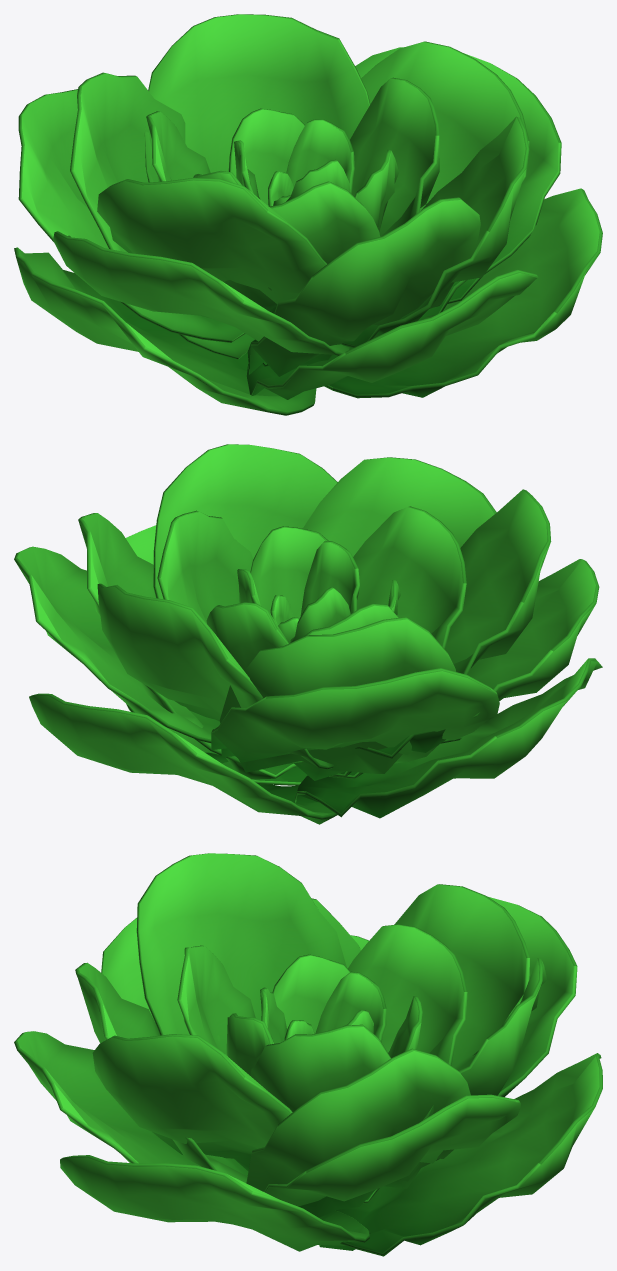
File: cabbage.fbx
The picture shows the model from 3 angles, top to bottom: view 1: azimuth 30°, elevation 25°; view 2: azimuth 150°, elevation 25°; view 3: azimuth 270°, elevation 25°; orthographic projection.
Visible parts, largest first — view 1: Plane.025; view 2: Plane.025; view 3: Plane.025.
Part boxes in pixels (x1=…): Plane.025: x1=14, y1=14, x2=602, y2=415; Plane.025: x1=14, y1=444, x2=602, y2=824; Plane.025: x1=14, y1=853, x2=602, y2=1256.
Size of the model in its own units: 203 by 106 by 198.
